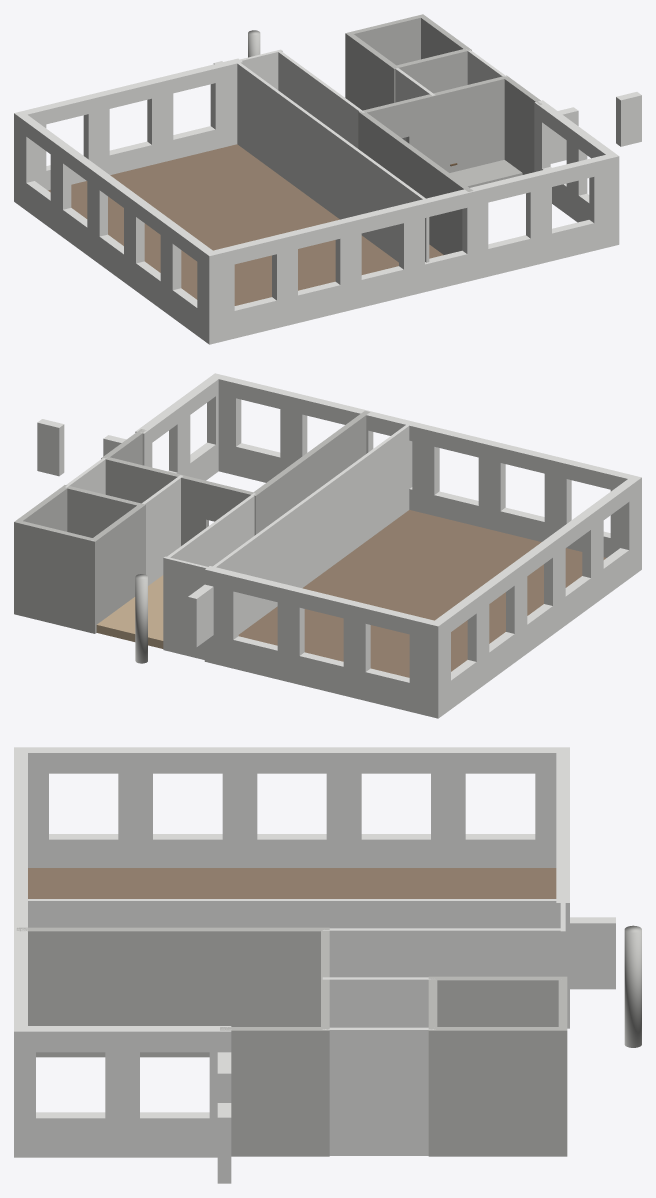
The model's file is SM_Bygg_Helgasetr_P3_V_S.fbx.
3 views of the same model, one above another, from view 1: azimuth 30°, elevation 25°; view 2: azimuth 150°, elevation 25°; view 3: azimuth 270°, elevation 25° (orthographic). The views are drawn at different scales.
Parts seen in each view (by area): view 1: SM_Bygg_Helgasetr_P3_V_S; view 2: SM_Bygg_Helgasetr_P3_V_S; view 3: SM_Bygg_Helgasetr_P3_V_S.
Boxes of the visible parts, bbox=[...] form: SM_Bygg_Helgasetr_P3_V_S: bbox=[14, 14, 641, 344]; SM_Bygg_Helgasetr_P3_V_S: bbox=[14, 373, 641, 718]; SM_Bygg_Helgasetr_P3_V_S: bbox=[14, 747, 641, 1183].
Size of the model in its own units: 18.08 by 23.84 by 4.
